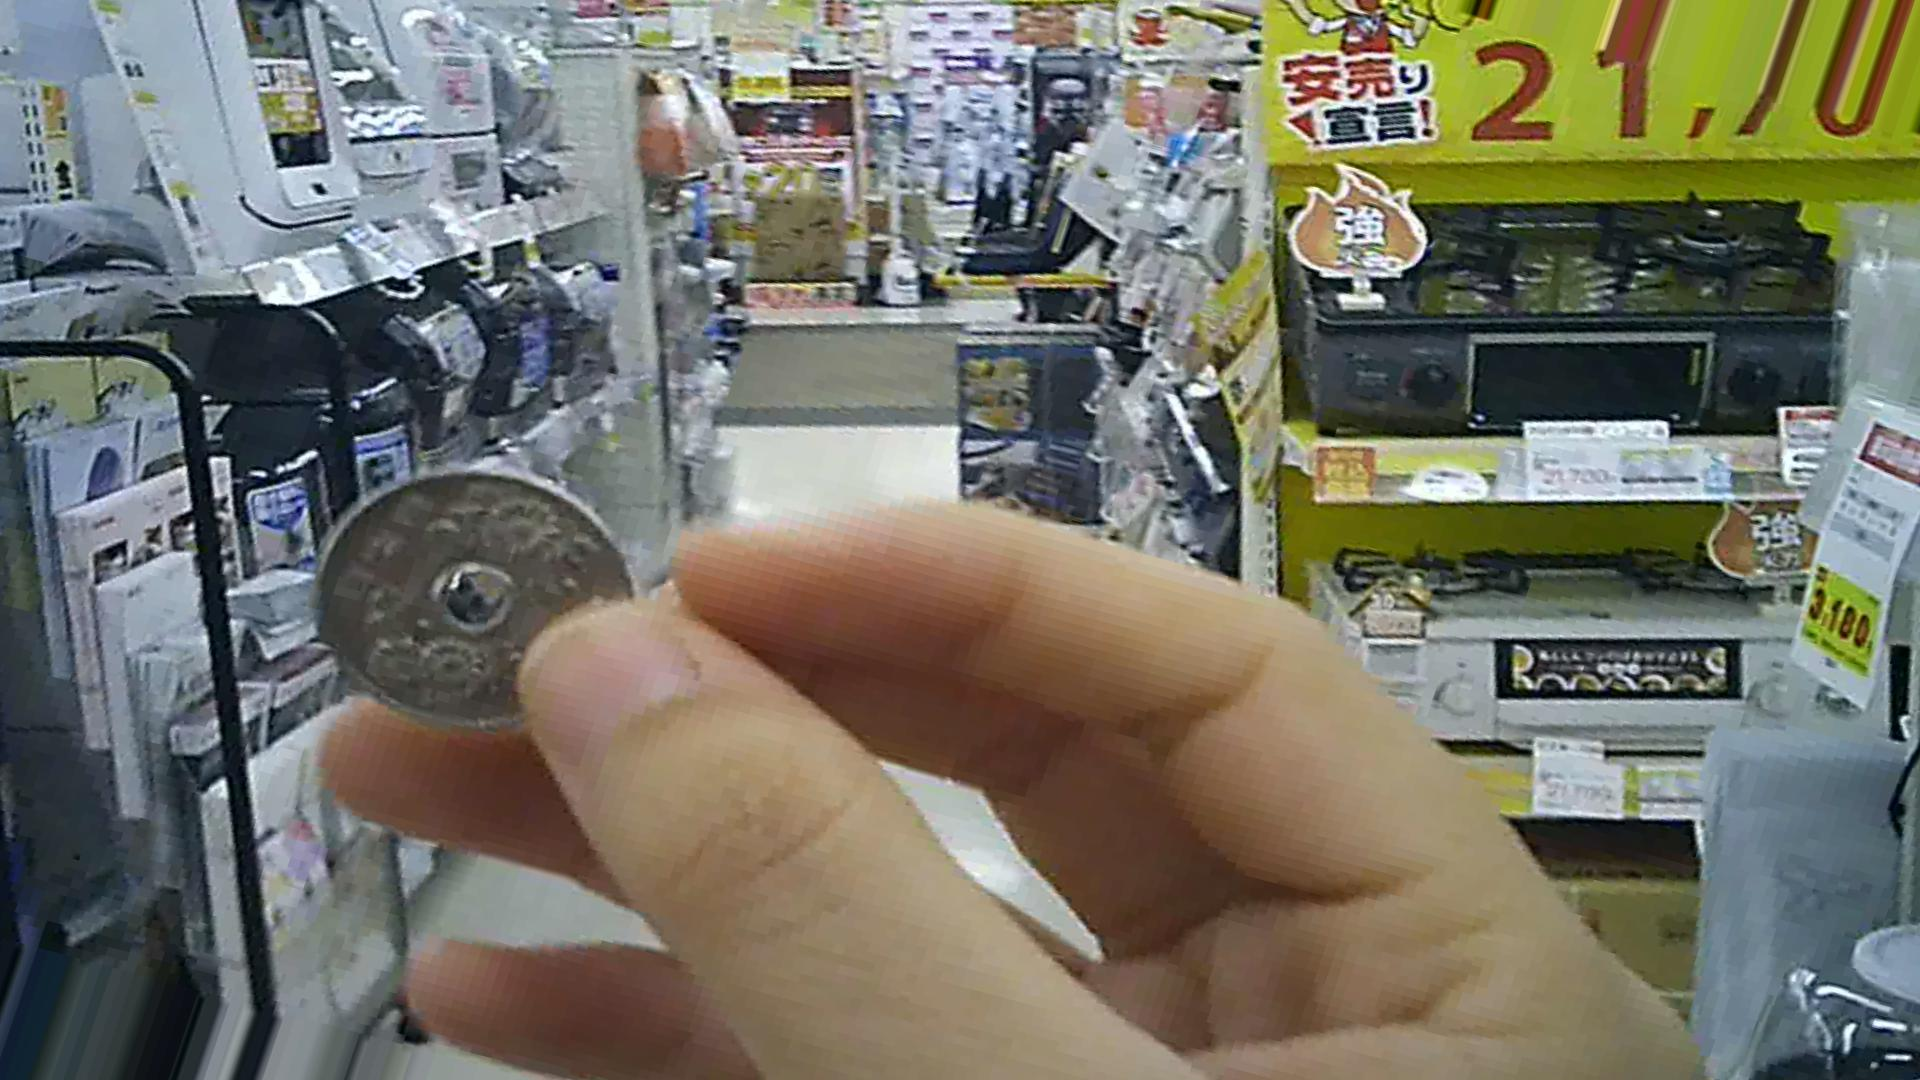50 Yen: (299, 475, 640, 742)
